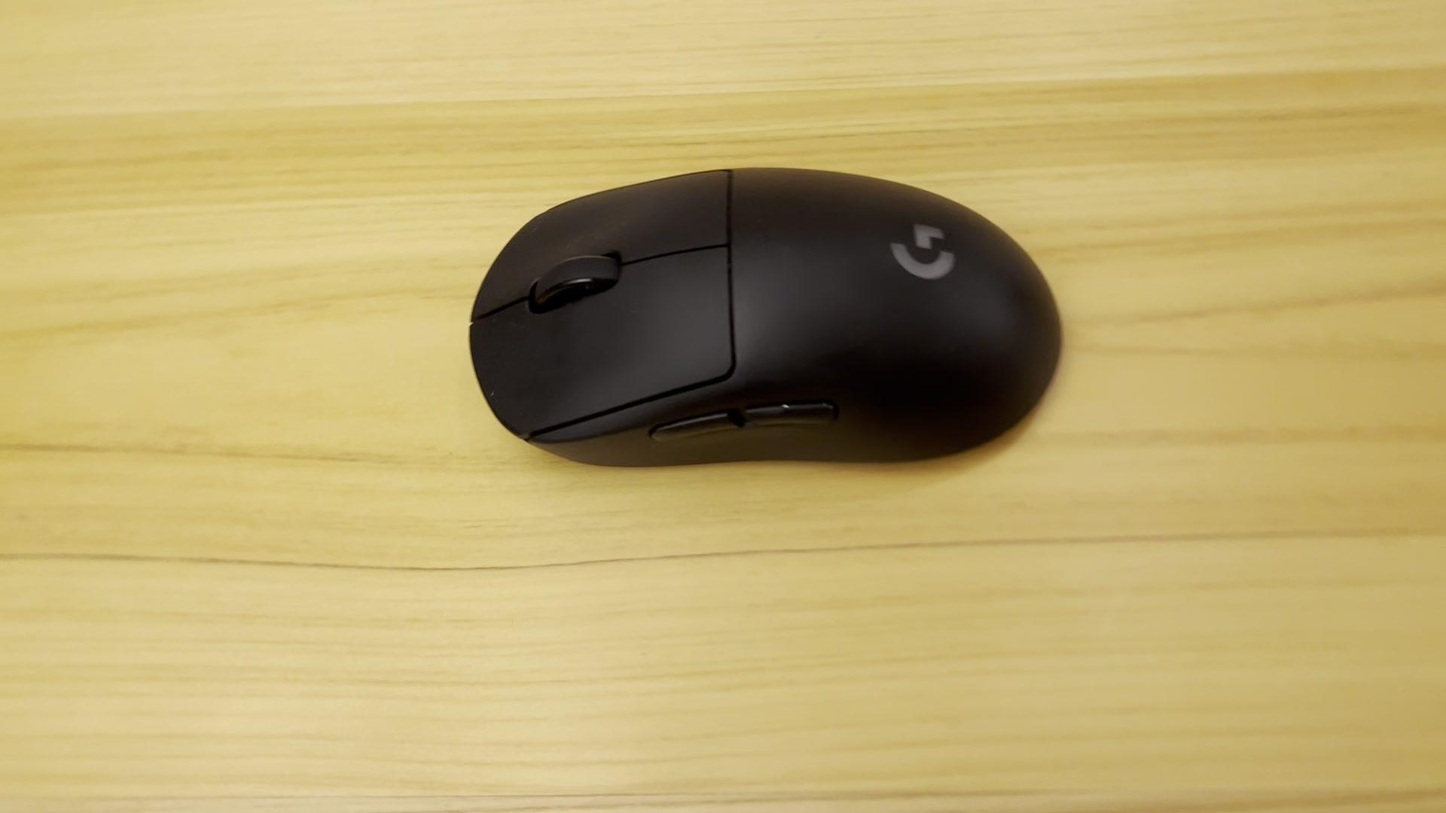logicool: (458, 157, 1078, 479)
